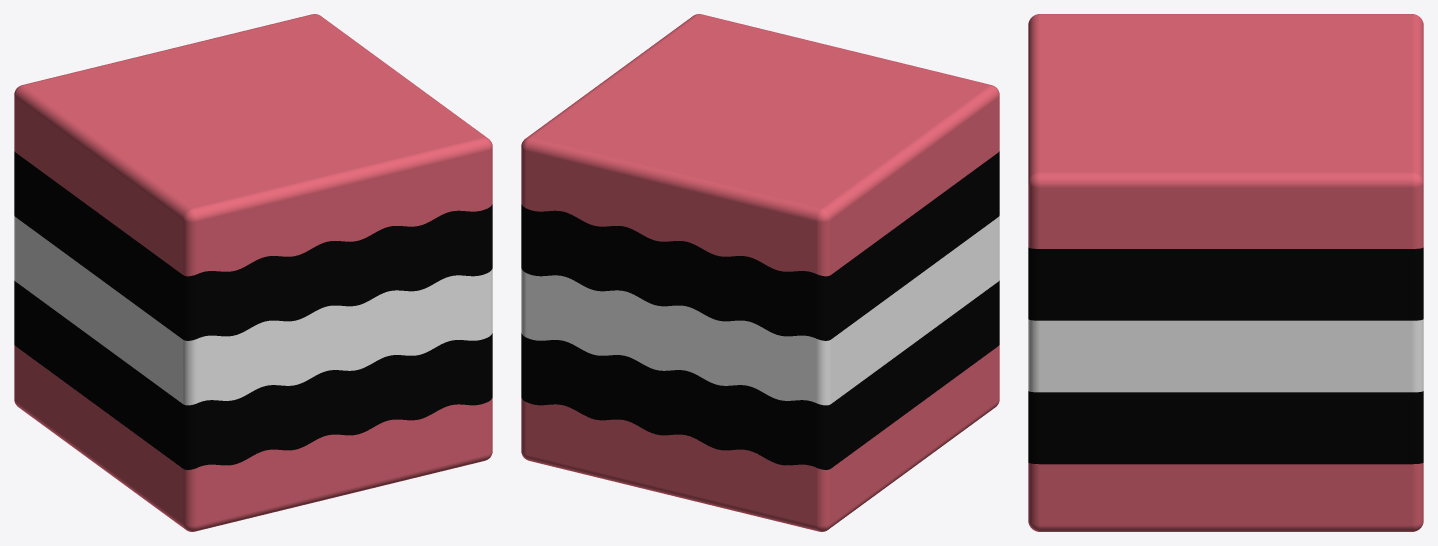
File: liquorice_allsort_box_and_lid_100_v7.glb
3 renders of one model, left to right at view 1: azimuth 30°, elevation 25°; view 2: azimuth 150°, elevation 25°; view 3: azimuth 270°, elevation 25°, orthographic. The views are drawn at different scales.
Visible parts, largest first — view 1: liquorice_allsort_box_and_lid_100_v7_5, liquorice_allsort_box_and_lid_100_v7_4, liquorice_allsort_box_and_lid_100_v7_2, liquorice_allsort_box_and_lid_100_v7_3, liquorice_allsort_box_and_lid_100_v7_1; view 2: liquorice_allsort_box_and_lid_100_v7_5, liquorice_allsort_box_and_lid_100_v7_4, liquorice_allsort_box_and_lid_100_v7_2, liquorice_allsort_box_and_lid_100_v7_3, liquorice_allsort_box_and_lid_100_v7_1; view 3: liquorice_allsort_box_and_lid_100_v7_5, liquorice_allsort_box_and_lid_100_v7_3, liquorice_allsort_box_and_lid_100_v7_2, liquorice_allsort_box_and_lid_100_v7_4, liquorice_allsort_box_and_lid_100_v7_1.
Part boxes in pixels (<box>): liquorice_allsort_box_and_lid_100_v7_5: <box>14,14,492,276</box>; liquorice_allsort_box_and_lid_100_v7_4: <box>14,151,492,340</box>; liquorice_allsort_box_and_lid_100_v7_2: <box>14,280,492,469</box>; liquorice_allsort_box_and_lid_100_v7_3: <box>14,216,492,405</box>; liquorice_allsort_box_and_lid_100_v7_1: <box>14,345,492,531</box>; liquorice_allsort_box_and_lid_100_v7_5: <box>521,14,999,276</box>; liquorice_allsort_box_and_lid_100_v7_4: <box>521,151,999,340</box>; liquorice_allsort_box_and_lid_100_v7_2: <box>521,280,999,469</box>; liquorice_allsort_box_and_lid_100_v7_3: <box>521,216,999,405</box>; liquorice_allsort_box_and_lid_100_v7_1: <box>521,345,999,531</box>; liquorice_allsort_box_and_lid_100_v7_5: <box>1028,14,1423,248</box>; liquorice_allsort_box_and_lid_100_v7_3: <box>1028,319,1423,392</box>; liquorice_allsort_box_and_lid_100_v7_2: <box>1028,391,1423,464</box>; liquorice_allsort_box_and_lid_100_v7_4: <box>1028,247,1423,320</box>; liquorice_allsort_box_and_lid_100_v7_1: <box>1028,463,1423,531</box>.
Size of the model in its own units: 10 by 10 by 10.
